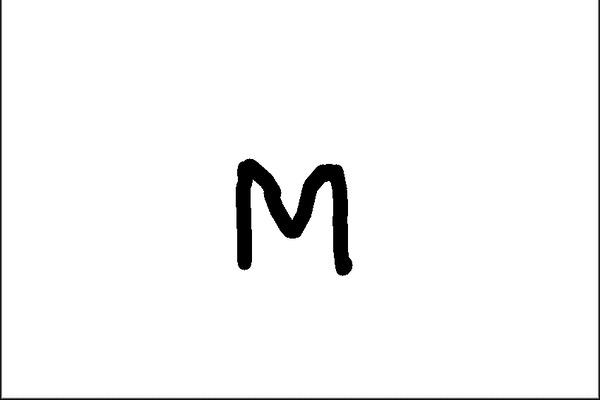M: (228, 154, 353, 272)
